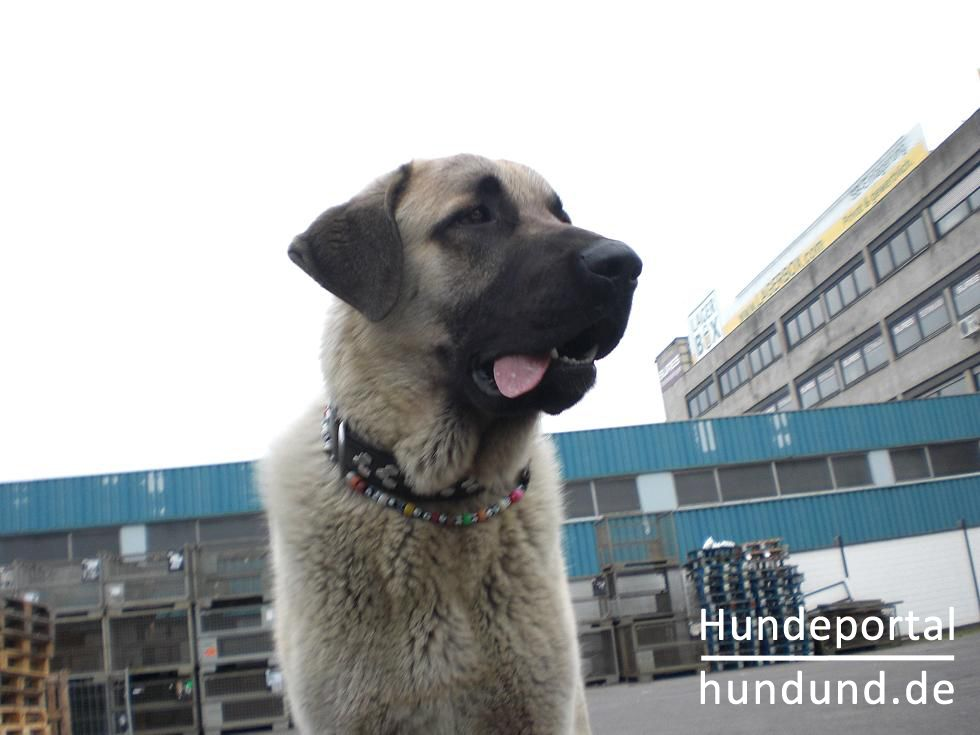kangal: (254, 153, 644, 735)
